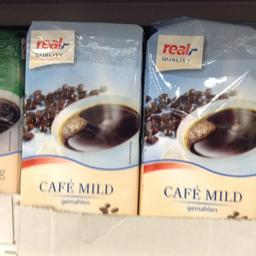coffee: (18, 18, 140, 214), (138, 16, 255, 218)
